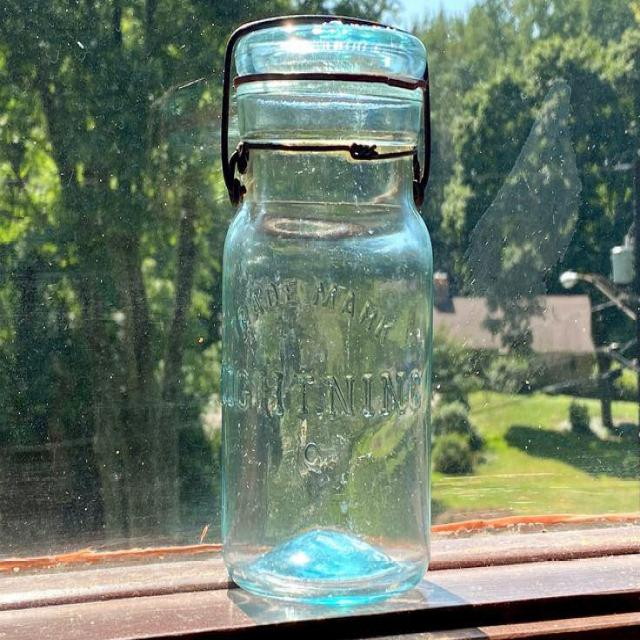non-organic waste: (207, 6, 440, 613)
